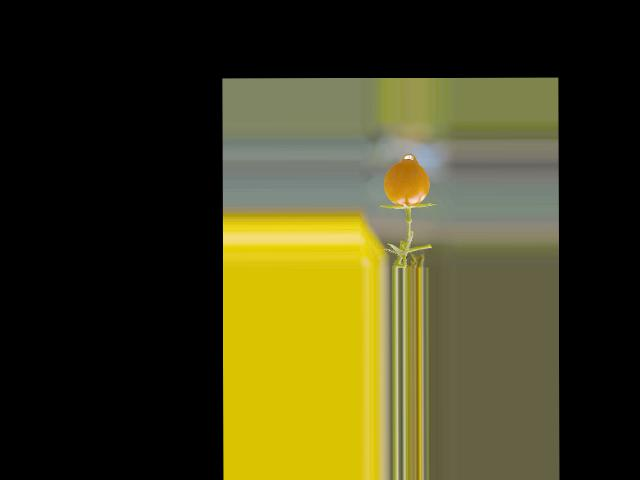tomato: (384, 161, 430, 206)
